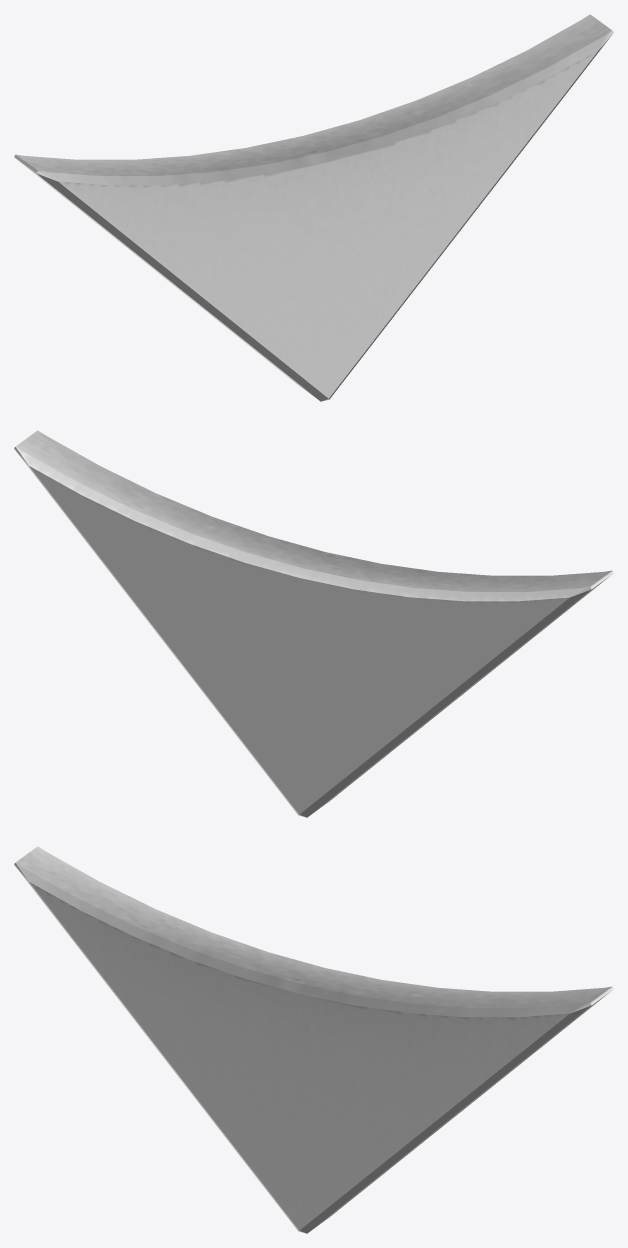
Rendered from vrteleportarrow.gltf.
3 renders of one model, top to bottom at view 1: azimuth 30°, elevation 25°; view 2: azimuth 150°, elevation 25°; view 3: azimuth 330°, elevation 25°, orthographic.
Visible parts, largest first — view 1: VRTeleportArrow; view 2: VRTeleportArrow; view 3: VRTeleportArrow.
Part boxes in pixels (x1=…): VRTeleportArrow: x1=14, y1=14, x2=613, y2=401; VRTeleportArrow: x1=14, y1=430, x2=613, y2=817; VRTeleportArrow: x1=14, y1=846, x2=613, y2=1233.
Size of the model in its own units: 0.3625 by 0.1799 by 0.032.
